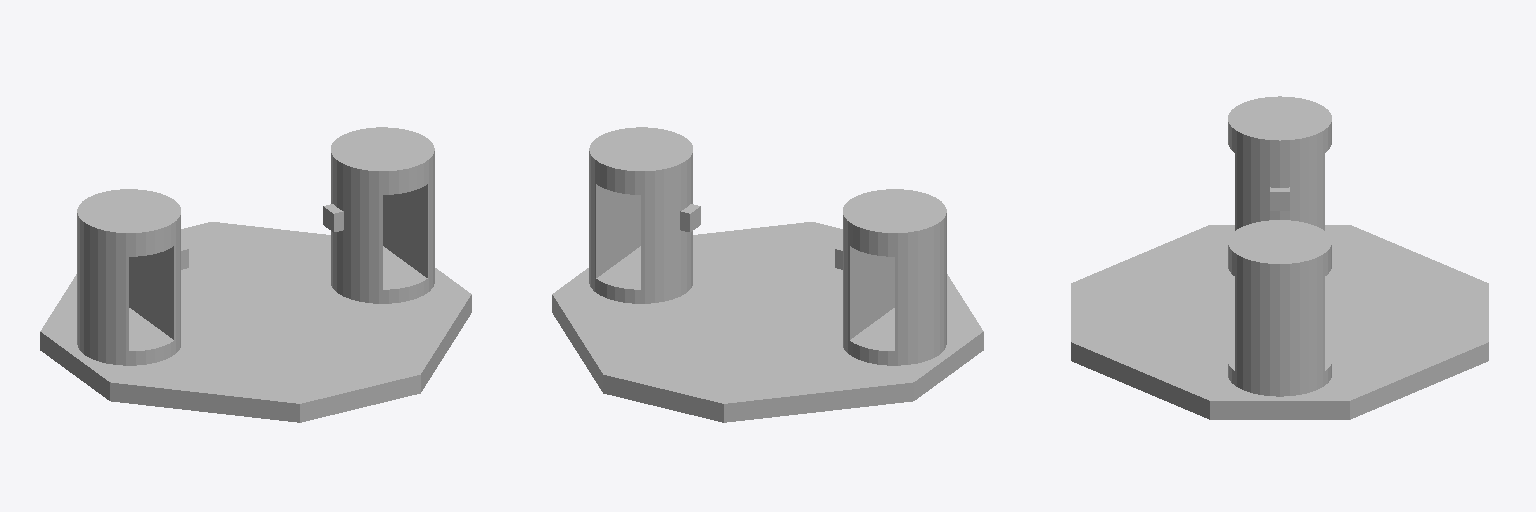
Rendered from solarCollector.obj.
The picture shows the model from 3 angles: view 1: azimuth 30°, elevation 25°; view 2: azimuth 150°, elevation 25°; view 3: azimuth 270°, elevation 25°; orthographic projection.
Parts seen in each view (by area): view 1: Cube_Cube.002; view 2: Cube_Cube.002; view 3: Cube_Cube.002.
Part boxes in pixels (x1,y1,x2,y2): Cube_Cube.002: (40, 127, 471, 422); Cube_Cube.002: (552, 127, 983, 422); Cube_Cube.002: (1071, 96, 1488, 419).
Size of the model in its own units: 2 by 0.8 by 2.